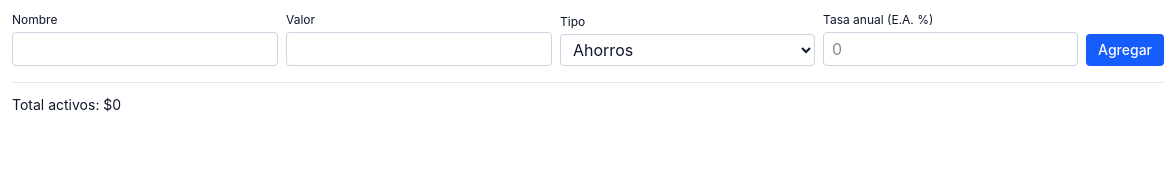
Scenario: AssetList (AC-9.1 TC-C-023) › AC-9.1 TC-C-023: adding an asset via form increases assets total
The width and height of the screenshot is (1176, 187).
Type "Savings" into the field labelled "Nombre".
click(145, 49); type("Savings")  # box [12, 32, 278, 66]
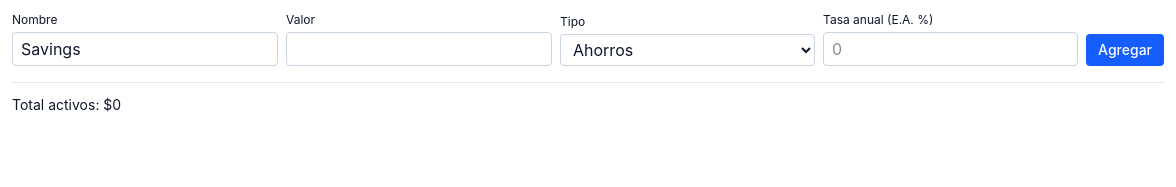
Type "10000000" into the field labelled "Valor".
click(419, 49); type("10000000")  # box [286, 32, 552, 66]
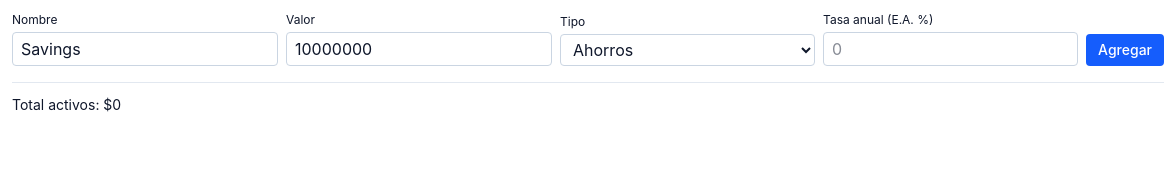
Select "Ahorros" in the dropdown labelled "Tipo" at (688, 50), box [560, 34, 815, 66]
Click the button "Agregar".
click(1125, 50)  # box [1086, 34, 1164, 66]
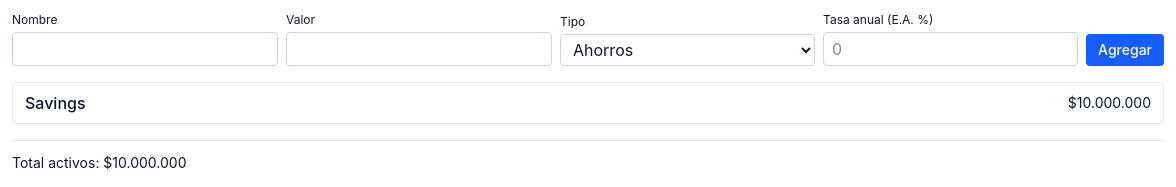
Check: the text "Savings" is shown, box [25, 91, 86, 115]
